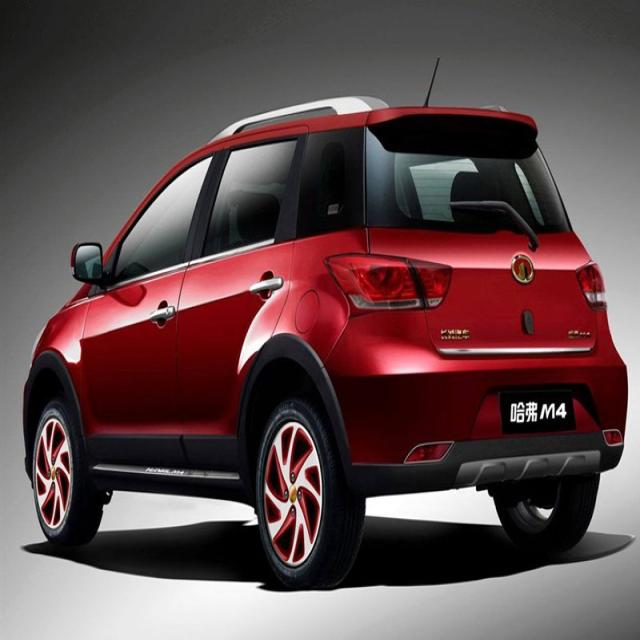back_glass: (367, 116, 570, 234)
back_left_side_light: (323, 250, 454, 320)
back_right_side_light: (574, 258, 608, 310)
door: (170, 128, 310, 482)
front_left_side_door: (81, 142, 224, 491)
front_left_side_mirror: (70, 237, 106, 288)
rear_bumper: (339, 422, 627, 498)
wheel: (255, 395, 366, 592), (31, 395, 99, 548), (490, 480, 600, 560)
